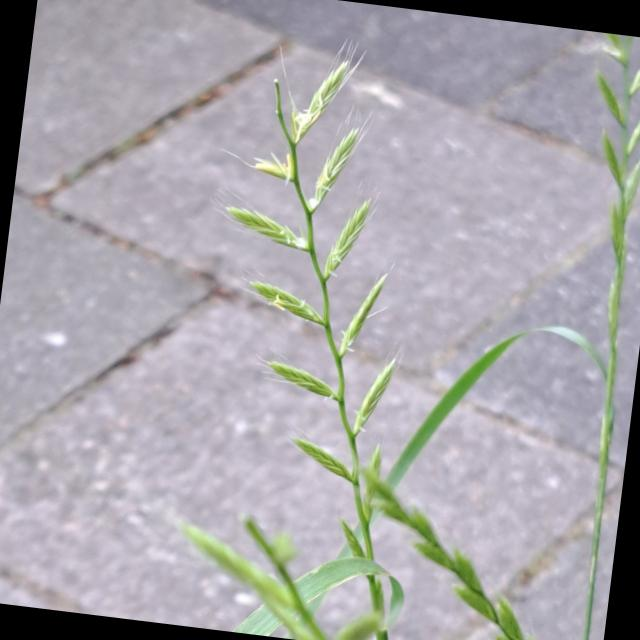Lolium: (170, 43, 462, 640), (279, 434, 571, 640), (551, 34, 640, 422)
